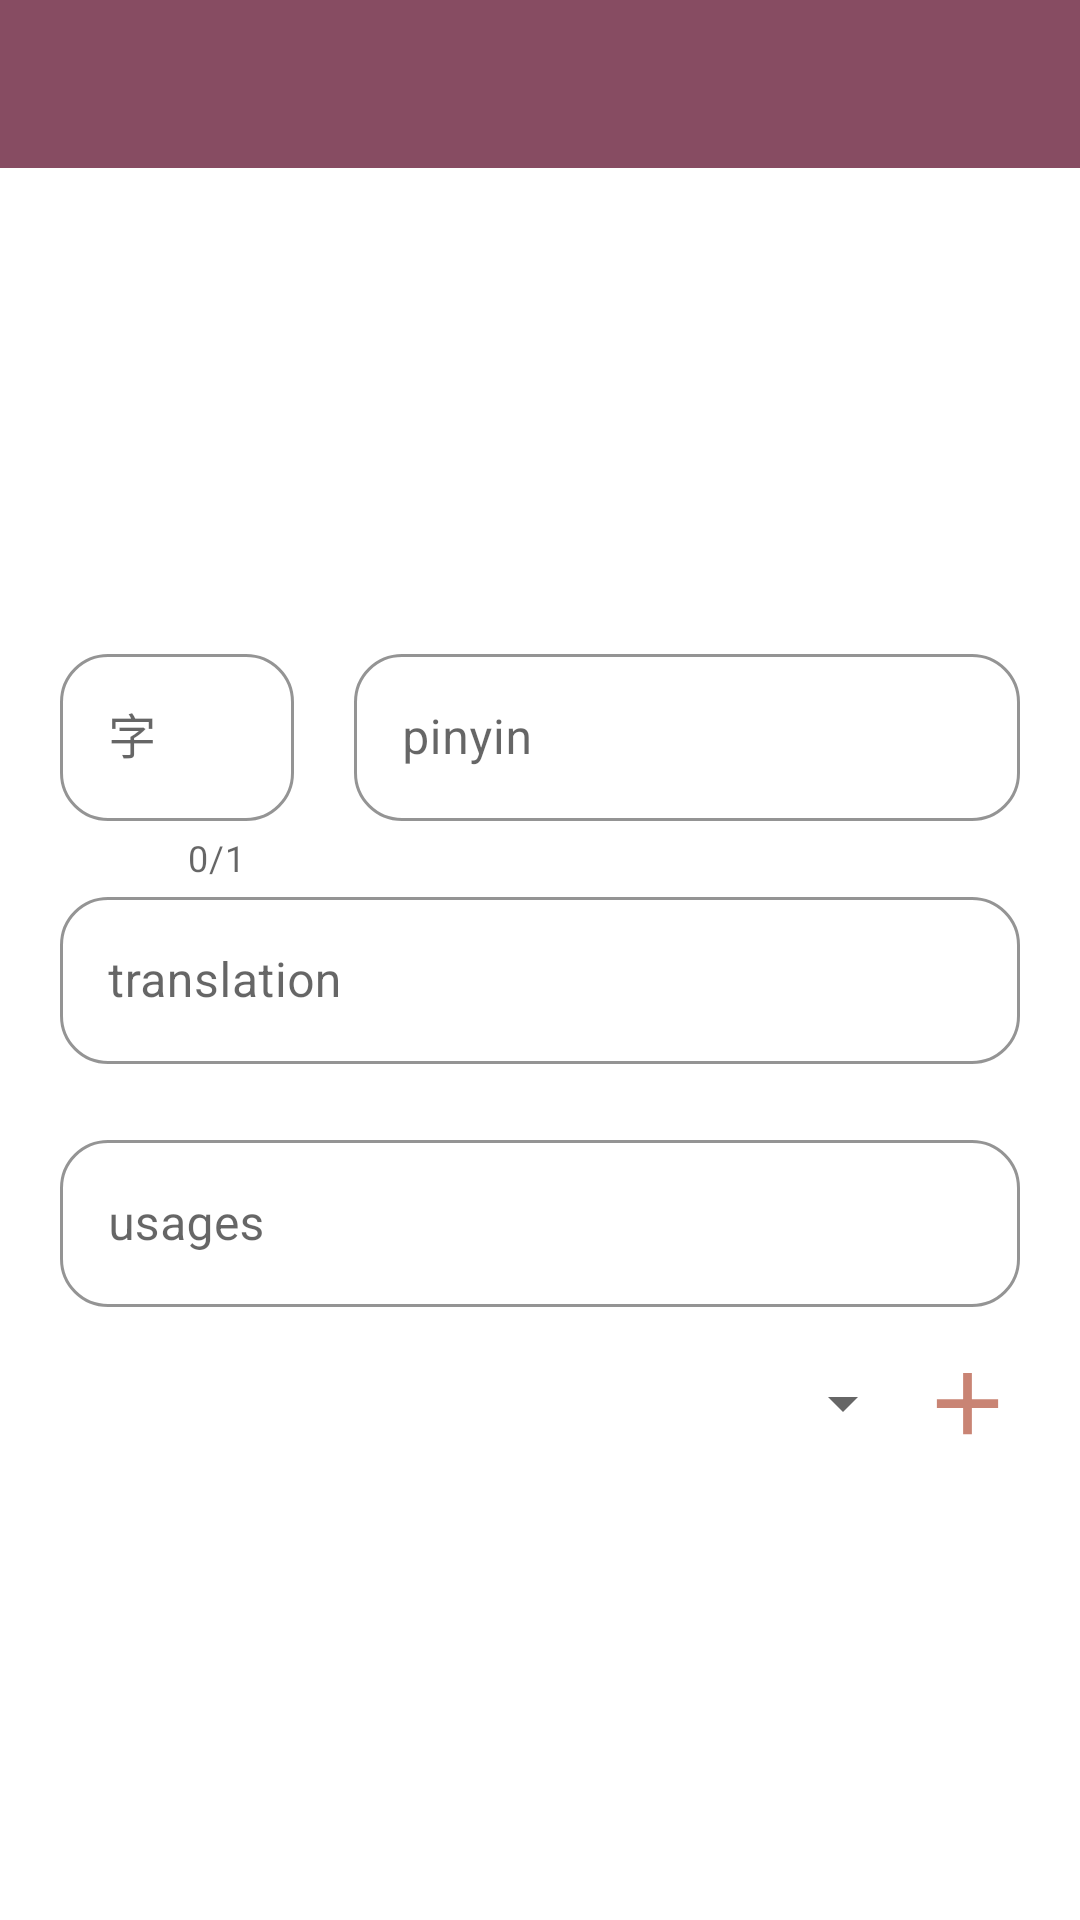

Screen size 1080x1920. Icon name, then its center in pixels as (x,y):
add: (967,1404)
